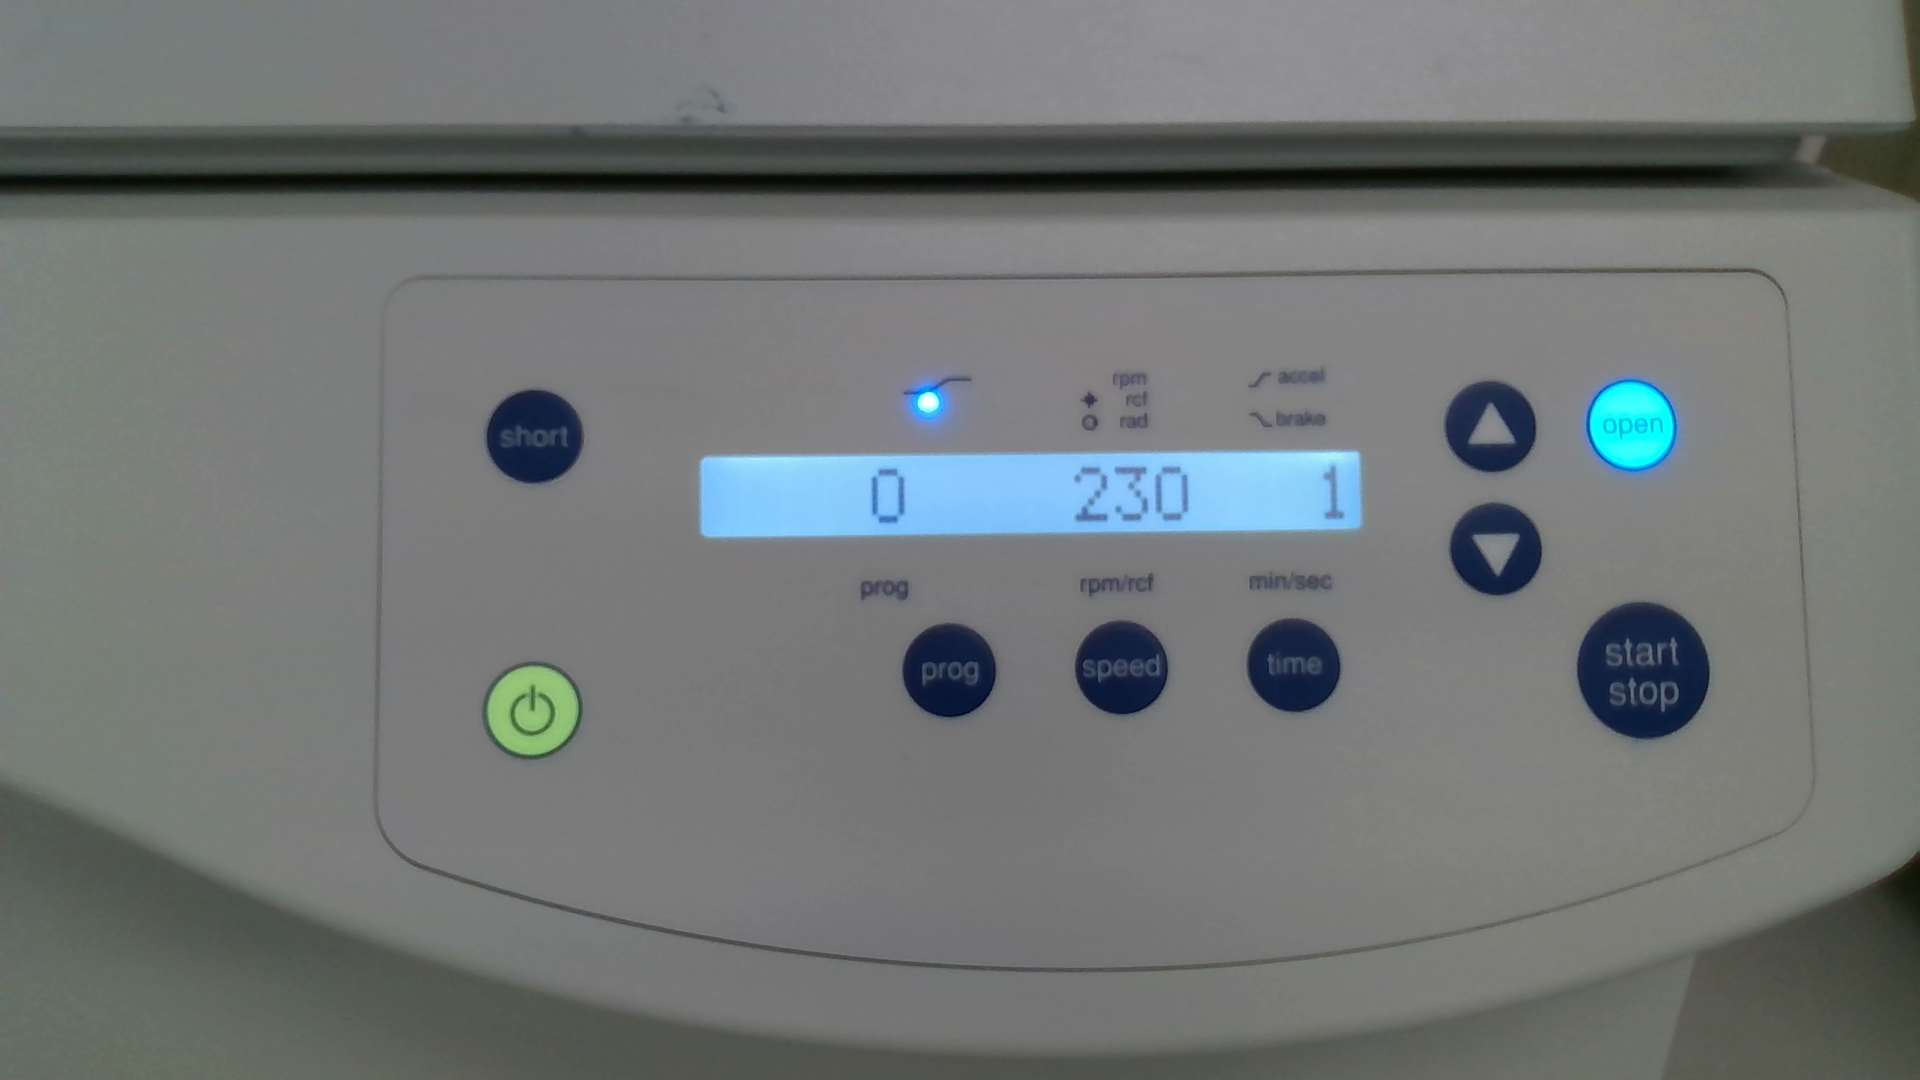0: (1155, 465, 1189, 521), (872, 468, 905, 524)
1: (1323, 465, 1344, 520)
2: (1073, 465, 1106, 522)
3: (1114, 467, 1149, 521)
open_on: (1586, 378, 1677, 473)
power_on: (483, 661, 584, 761)
